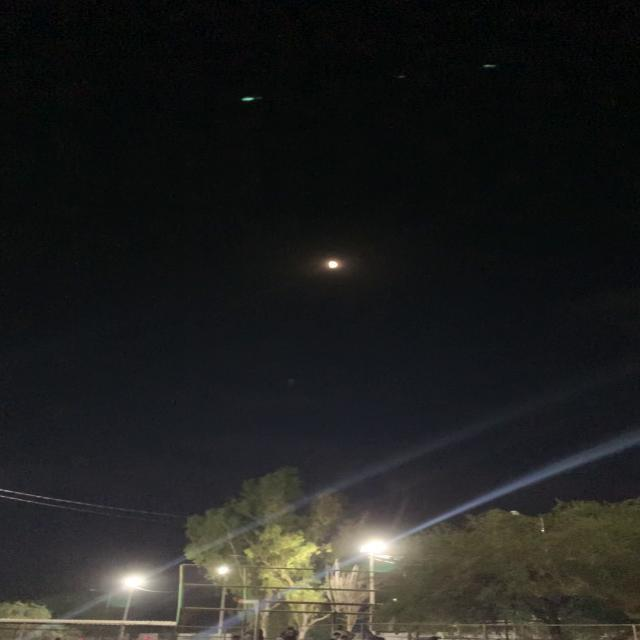moon: (309, 252, 356, 282)
